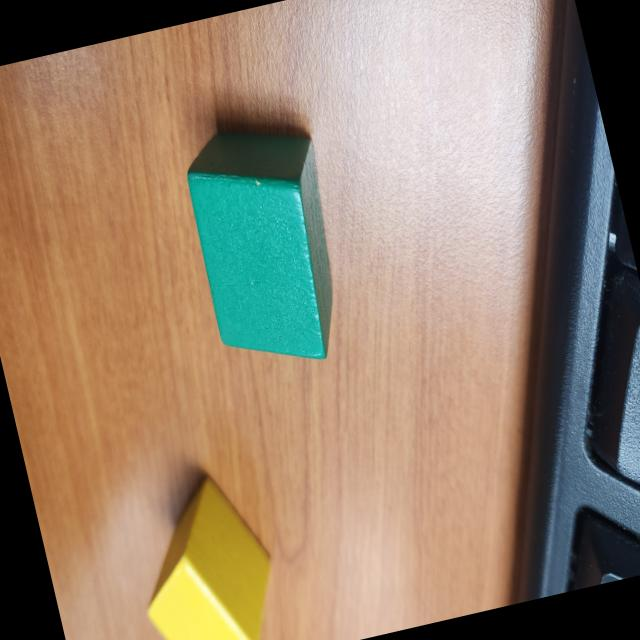green: (174, 113, 361, 377)
yellow: (118, 464, 293, 640)
